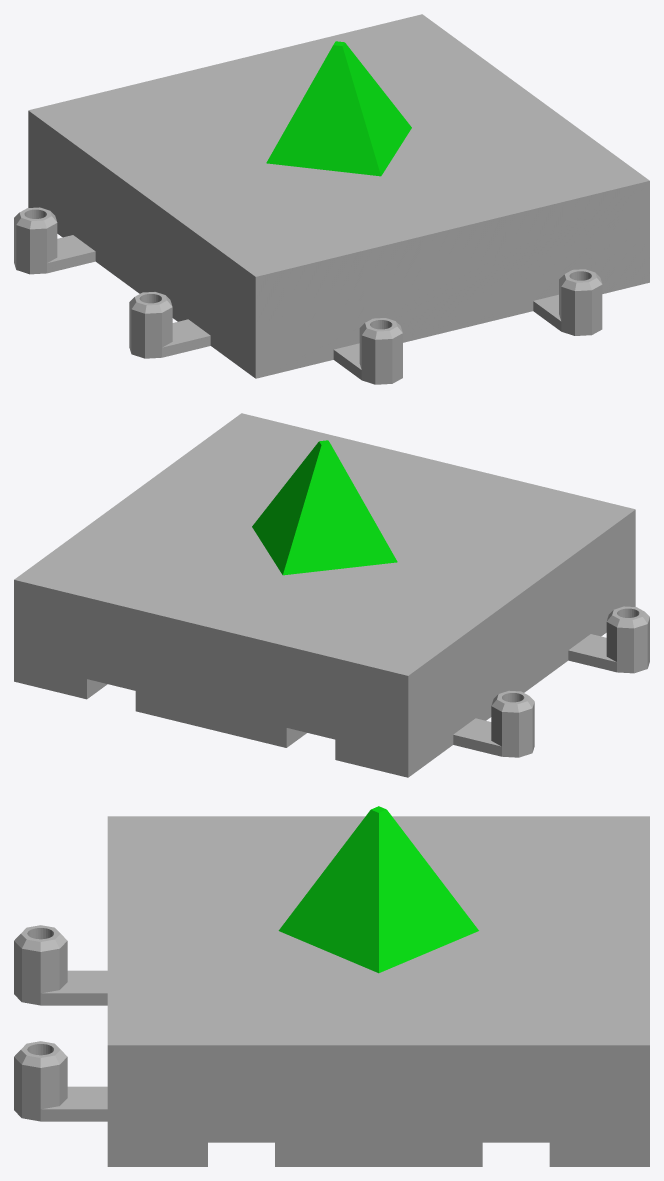
The model's file is cubes-Baseplate.glb.
3 views of the same model, one above another, from view 1: azimuth 30°, elevation 25°; view 2: azimuth 150°, elevation 25°; view 3: azimuth 270°, elevation 25° (orthographic). The views are drawn at different scales.
Visible parts, largest first — view 1: Pick&Place.BasePlate; view 2: Pick&Place.BasePlate; view 3: Pick&Place.BasePlate.
Part boxes in pixels (x1=…): Pick&Place.BasePlate: x1=14, y1=14, x2=649, y2=384; Pick&Place.BasePlate: x1=14, y1=413, x2=649, y2=777; Pick&Place.BasePlate: x1=14, y1=806, x2=649, y2=1166.
Size of the model in its own units: 0.095 by 0.04 by 0.095.
